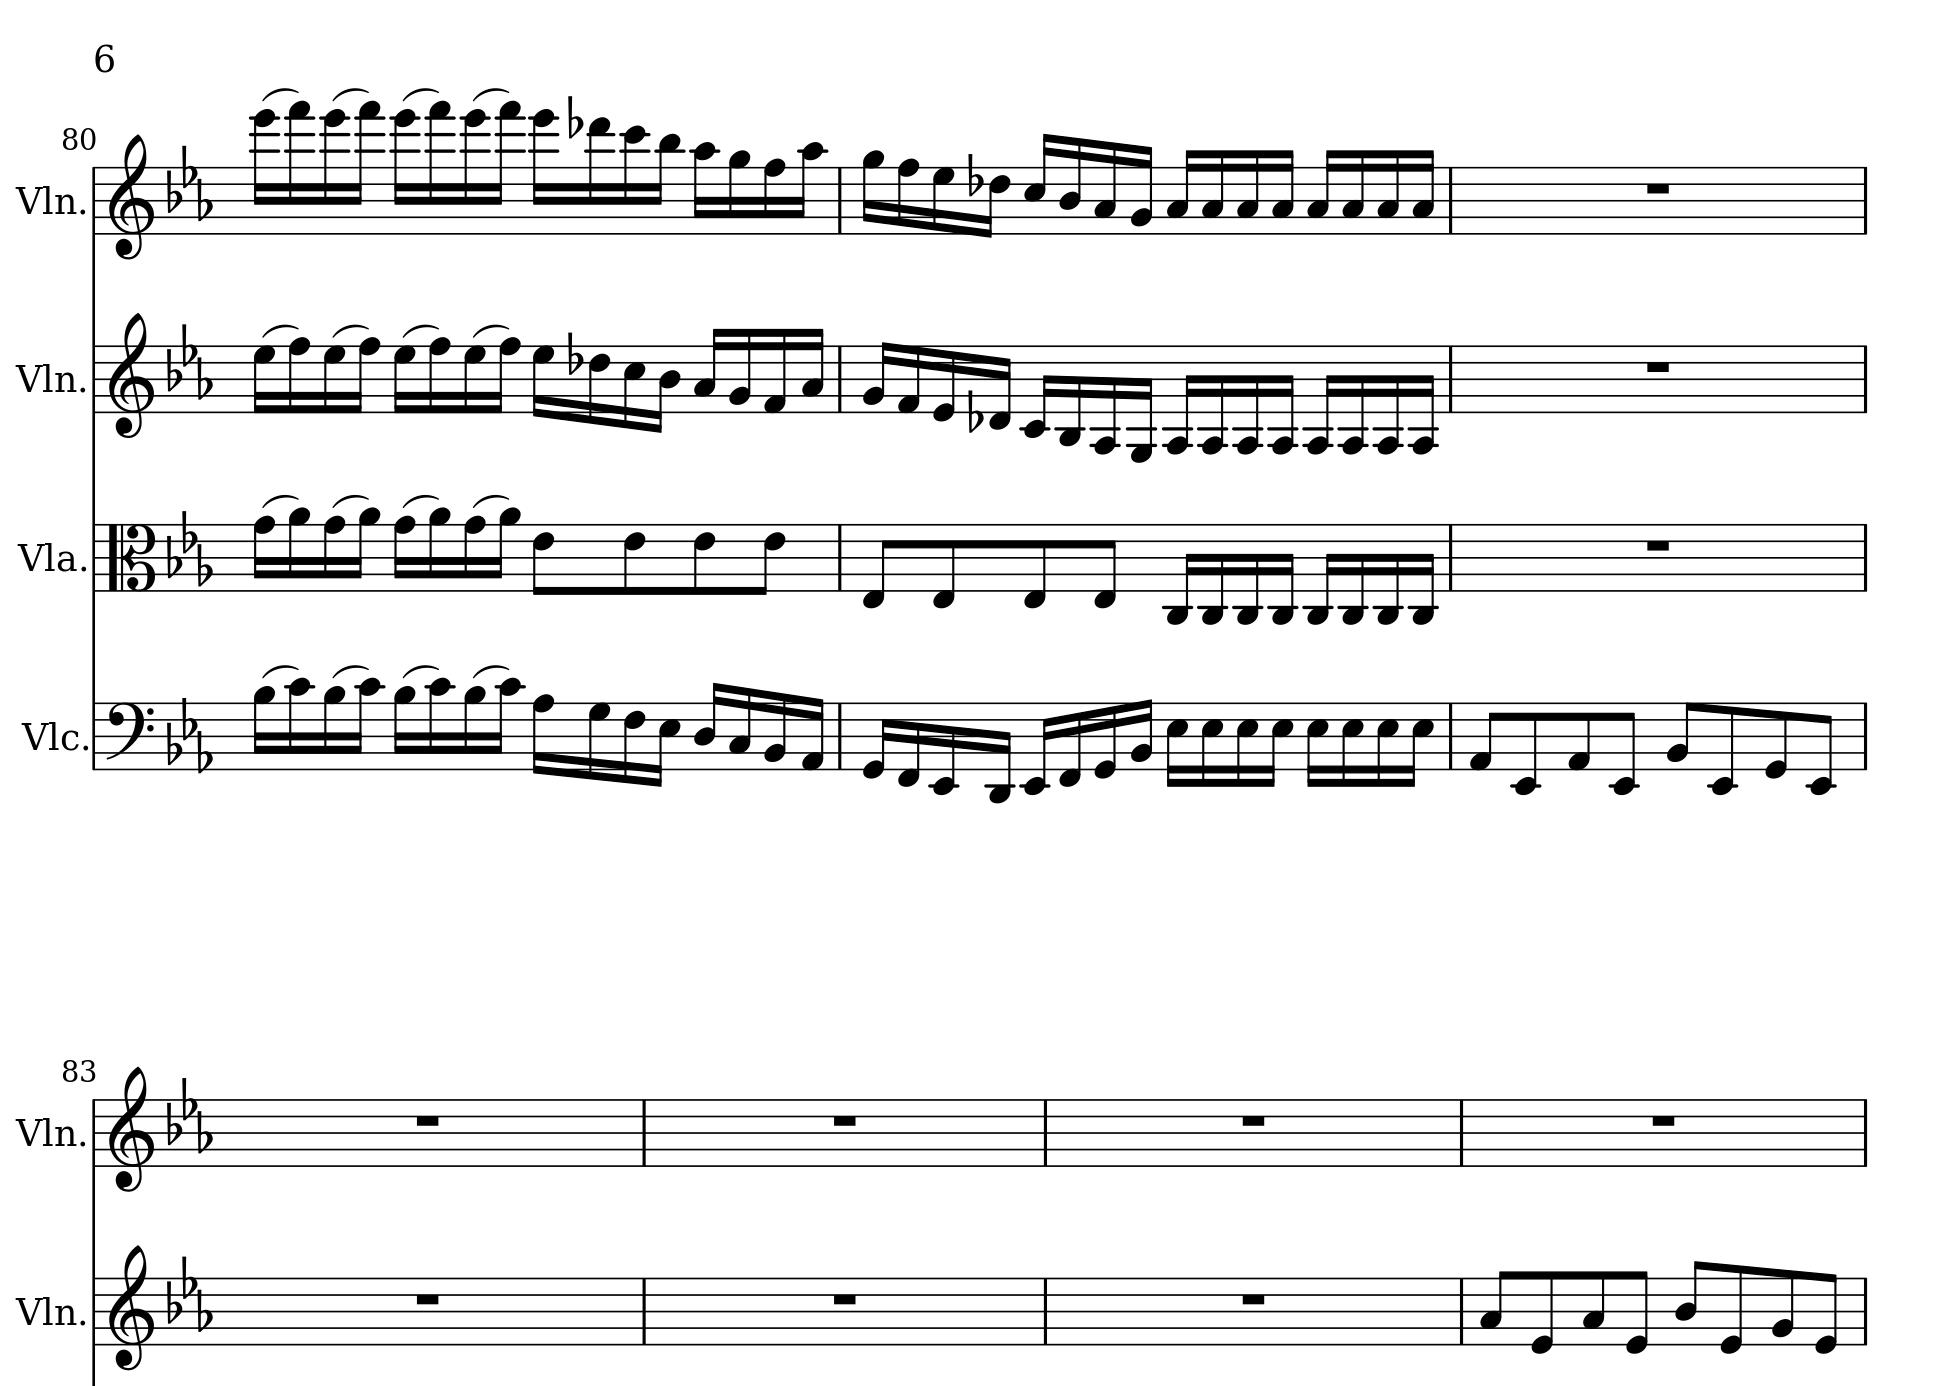0: (78, 124, 96, 151)
16_-1: (895, 700, 922, 789), (987, 343, 1012, 430), (1057, 700, 1083, 787)
16_-2: (1021, 343, 1053, 439), (1021, 700, 1053, 796), (930, 700, 958, 796)
16_-3: (1164, 522, 1197, 625), (1305, 523, 1336, 625), (1339, 522, 1369, 625), (1200, 520, 1228, 625), (1410, 520, 1438, 625), (1057, 343, 1086, 447), (1234, 522, 1263, 625), (1269, 522, 1297, 625), (1375, 522, 1404, 625), (985, 700, 1014, 804)
16_-4: (1164, 343, 1197, 456), (1305, 343, 1338, 454), (1128, 343, 1158, 463), (1090, 343, 1122, 454), (1234, 343, 1266, 454), (1410, 342, 1440, 457), (1200, 343, 1230, 454), (1341, 343, 1371, 454), (1375, 343, 1405, 454), (1270, 343, 1299, 454)
16_0: (859, 700, 892, 780), (930, 343, 958, 423), (1092, 700, 1120, 780)
16_1: (760, 325, 787, 415), (799, 694, 825, 772), (895, 342, 922, 415)
16_10: (489, 676, 526, 772), (793, 141, 829, 235), (349, 676, 385, 771), (426, 676, 457, 771), (286, 675, 316, 772), (690, 139, 720, 235)
16_11: (649, 132, 684, 235)
16_12: (621, 124, 649, 235)
16_13: (585, 114, 615, 235)
16_14: (319, 106, 349, 235), (249, 108, 277, 235), (460, 108, 489, 234), (529, 109, 558, 234), (391, 108, 418, 234)
16_15: (349, 100, 384, 235), (490, 103, 523, 235), (424, 100, 454, 235), (283, 102, 313, 234)
16_2: (1128, 142, 1155, 235), (861, 339, 892, 415), (727, 325, 753, 415), (763, 688, 789, 772), (1129, 697, 1155, 772)
16_3: (1305, 145, 1338, 235), (1164, 147, 1197, 235), (693, 325, 724, 412), (1092, 138, 1119, 235), (1410, 145, 1437, 237), (1200, 147, 1227, 237), (1341, 148, 1368, 235), (1236, 147, 1261, 235), (1270, 147, 1296, 235), (799, 325, 825, 414), (727, 684, 753, 772), (1377, 148, 1402, 235)
16_4: (693, 681, 724, 771), (652, 343, 682, 433), (1059, 133, 1084, 235)
16_5: (1023, 130, 1056, 235), (651, 700, 682, 789), (1264, 700, 1296, 789), (1405, 700, 1437, 787), (1164, 700, 1191, 789), (1305, 700, 1330, 787), (1375, 700, 1401, 787), (622, 342, 646, 430), (1200, 700, 1224, 789), (1236, 700, 1260, 789), (1341, 700, 1365, 787)
16_6: (981, 163, 1011, 238), (586, 343, 612, 426), (622, 699, 646, 784)
16_7: (529, 343, 556, 421), (586, 699, 610, 783), (930, 163, 955, 237), (462, 342, 487, 415), (250, 343, 276, 415), (321, 343, 346, 415), (391, 343, 417, 415)
16_8: (349, 334, 382, 414), (490, 336, 522, 414), (760, 157, 787, 237), (531, 693, 556, 777), (250, 514, 277, 592), (427, 334, 453, 415), (286, 334, 312, 414), (462, 514, 487, 594), (321, 514, 346, 592), (391, 514, 417, 592), (895, 157, 919, 235)
16_9: (492, 507, 523, 592), (352, 505, 382, 592), (286, 505, 313, 592), (391, 684, 418, 771), (726, 148, 751, 237), (859, 148, 885, 237), (427, 505, 453, 594), (252, 684, 277, 772), (321, 684, 346, 772), (462, 684, 487, 772)
3: (78, 1056, 97, 1084)
6: (94, 40, 115, 73)
8: (60, 1056, 79, 1084), (60, 124, 78, 151)
8_-1: (859, 522, 894, 610), (928, 522, 958, 610), (1021, 522, 1050, 610), (1092, 522, 1119, 610)
8_-2: (1608, 700, 1641, 796), (1510, 700, 1542, 796), (1707, 700, 1738, 796), (1806, 700, 1836, 796)
8_0: (1717, 1261, 1747, 1356), (1812, 1270, 1840, 1356), (1624, 1267, 1651, 1357), (1530, 1269, 1557, 1356), (1764, 699, 1791, 780)
8_1: (1467, 700, 1500, 772), (1566, 699, 1593, 772)
8_2: (1770, 1267, 1798, 1348), (1665, 700, 1696, 772)
8_3: (1479, 1267, 1512, 1345), (1581, 1269, 1608, 1347)
8_4: (1674, 1258, 1707, 1345)
8_6: (753, 522, 786, 597), (691, 522, 717, 597), (531, 522, 556, 595), (622, 522, 646, 597)
Cclef: (105, 522, 157, 592)
E_F: (165, 505, 216, 586), (163, 693, 214, 771), (165, 319, 214, 399), (165, 142, 214, 220), (165, 1074, 211, 1152), (166, 1252, 213, 1330)
Fclef: (103, 699, 156, 771)
Flat: (565, 93, 583, 141), (565, 328, 583, 376), (966, 151, 984, 198), (966, 388, 984, 435)
Gclef: (106, 310, 154, 439), (106, 1063, 154, 1192), (106, 1242, 154, 1371), (106, 133, 154, 261)
Rests1: (1644, 355, 1674, 376), (412, 1288, 444, 1308), (412, 1110, 442, 1129), (829, 1110, 859, 1129), (1239, 1110, 1269, 1129), (1642, 535, 1674, 553), (1648, 1111, 1680, 1129), (1644, 178, 1674, 196), (829, 1288, 859, 1306), (1239, 1288, 1269, 1306)
Single_barline: (1855, 343, 1875, 412), (634, 1276, 654, 1345), (1036, 1276, 1056, 1345), (1855, 166, 1875, 234), (1440, 166, 1459, 234), (1441, 345, 1461, 412), (634, 1099, 654, 1165), (1036, 1099, 1056, 1165), (85, 523, 103, 592), (1441, 523, 1459, 592), (1857, 523, 1875, 591), (1857, 1098, 1875, 1165), (1452, 1099, 1470, 1165), (831, 166, 847, 234), (831, 345, 847, 412), (87, 702, 103, 769), (831, 702, 847, 769), (1443, 702, 1459, 769), (1453, 1276, 1470, 1344), (1858, 702, 1873, 771), (1858, 1276, 1873, 1345), (87, 345, 102, 412), (832, 523, 847, 589), (87, 166, 100, 235), (87, 1098, 100, 1167), (88, 1276, 102, 1345)
Slur: (328, 85, 372, 103), (259, 85, 301, 103), (259, 321, 301, 339), (330, 661, 372, 679), (261, 661, 301, 679), (400, 661, 441, 679), (400, 85, 442, 102), (469, 85, 511, 102), (328, 322, 370, 339), (259, 492, 301, 508), (399, 492, 441, 508), (400, 322, 441, 339), (471, 663, 510, 679), (328, 493, 370, 508), (471, 322, 510, 337), (471, 493, 510, 508)
Vla: (16, 535, 78, 580)
Vlc: (19, 714, 79, 757)
Vln: (13, 355, 78, 400), (13, 1288, 76, 1333), (15, 178, 78, 220), (15, 1111, 78, 1153)
